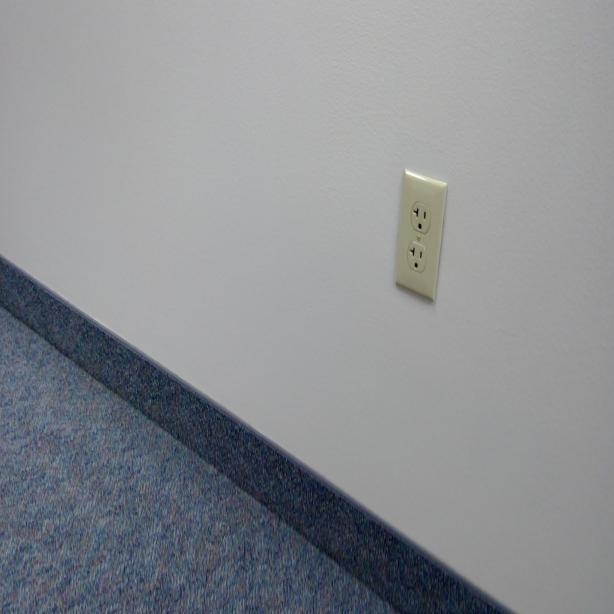typeb: (410, 204, 431, 234), (406, 244, 426, 272)
